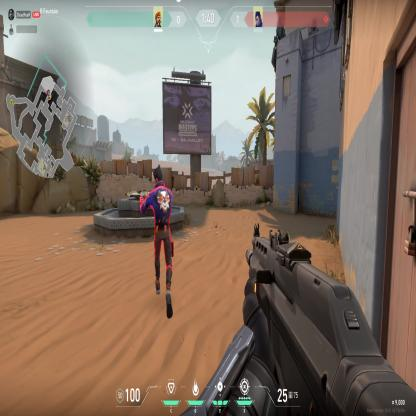enemy: (146, 164, 177, 322)
